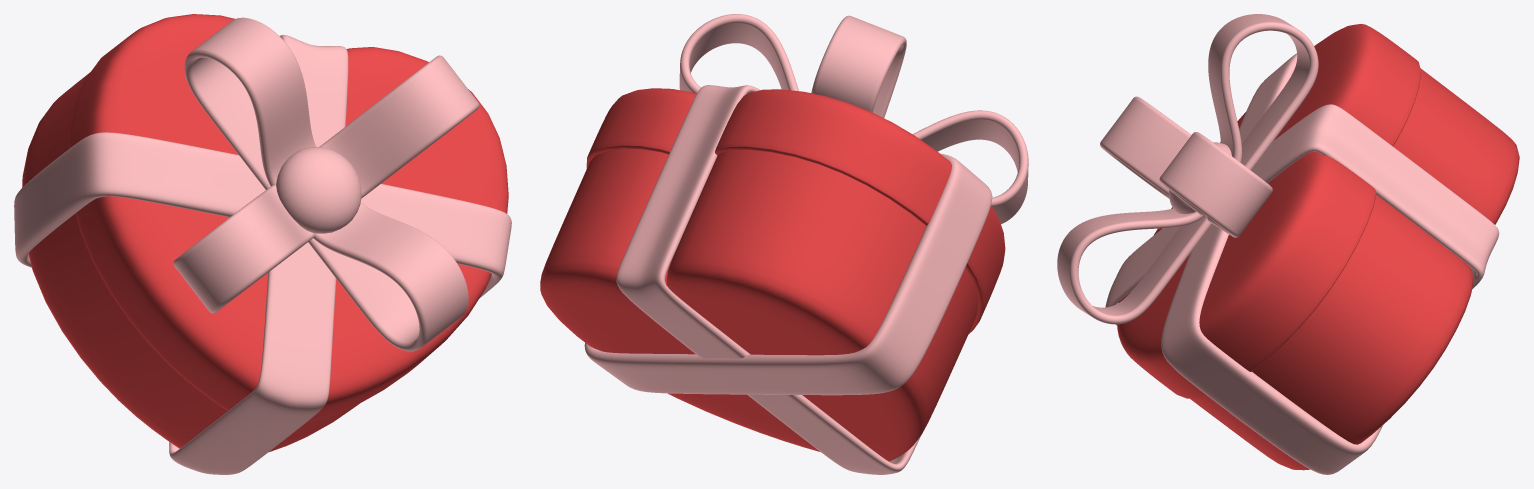
Rendered from heart_box.glb.
3 views of the same model, side by side, from view 1: azimuth 30°, elevation 25°; view 2: azimuth 150°, elevation 25°; view 3: azimuth 270°, elevation 25° (orthographic). The views are drawn at different scales.
Visible parts, largest first — view 1: Cube.046, Cube.047, Plane.025, Cube.045, NurbsPath.008, NurbsPath.004, NurbsPath.003, NurbsPath.007, Sphere.001; view 2: Cube.045, Cube.046, Cube.047, Plane.025, NurbsPath.008, NurbsPath.007, NurbsPath.003; view 3: Cube.045, Cube.046, Cube.047, Plane.025, NurbsPath.004, NurbsPath.008, NurbsPath.003, NurbsPath.007.
Boxes of the visible parts, bbox=[...] form: Cube.046: bbox=[69, 14, 508, 422]; Cube.047: bbox=[14, 132, 511, 297]; Plane.025: bbox=[169, 34, 348, 474]; Cube.045: bbox=[22, 72, 359, 451]; NurbsPath.008: bbox=[184, 17, 315, 189]; NurbsPath.004: bbox=[308, 202, 468, 351]; NurbsPath.003: bbox=[319, 55, 479, 198]; NurbsPath.007: bbox=[173, 185, 314, 313]; Sphere.001: bbox=[276, 146, 361, 233]; Cube.045: bbox=[540, 148, 978, 461]; Cube.046: bbox=[586, 88, 1005, 334]; Cube.047: bbox=[584, 153, 992, 395]; Plane.025: bbox=[616, 85, 920, 474]; NurbsPath.008: bbox=[811, 15, 906, 117]; NurbsPath.007: bbox=[913, 110, 1028, 224]; NurbsPath.003: bbox=[679, 14, 798, 93]; Cube.045: bbox=[1190, 68, 1519, 470]; Cube.046: bbox=[1117, 24, 1420, 398]; Cube.047: bbox=[1161, 53, 1382, 474]; Plane.025: bbox=[1105, 104, 1499, 325]; NurbsPath.004: bbox=[1057, 208, 1211, 324]; NurbsPath.008: bbox=[1208, 14, 1318, 169]; NurbsPath.003: bbox=[1159, 132, 1272, 237]; NurbsPath.007: bbox=[1100, 96, 1191, 198].
Size of the model in its own units: 2.43 by 2.62 by 2.59.
